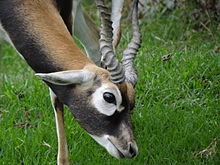Blackbuck: (1, 1, 142, 165)
